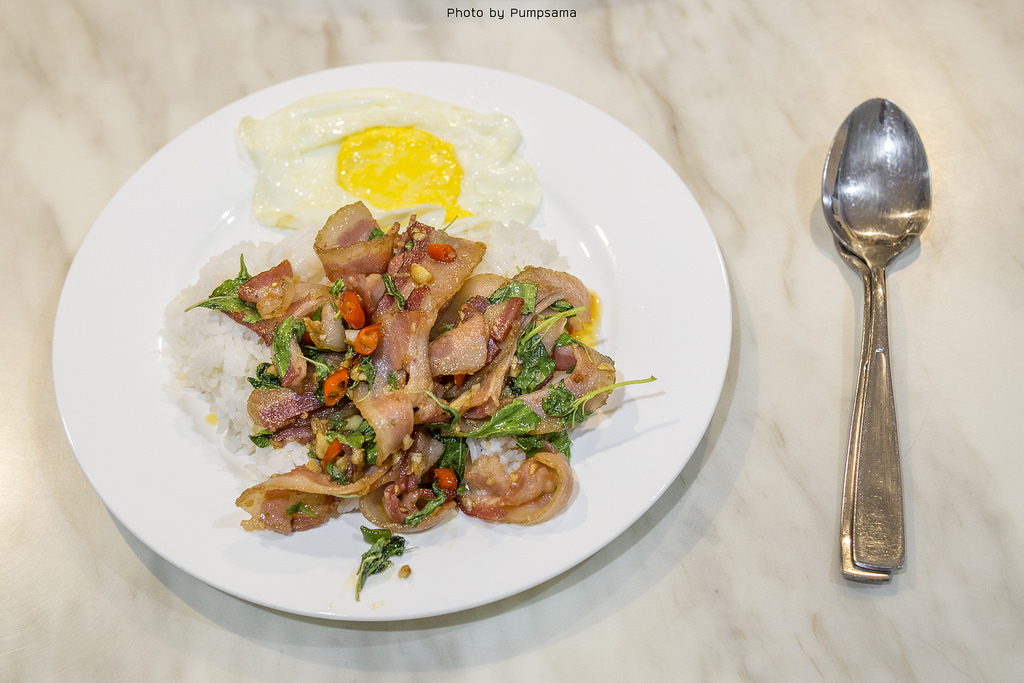fried egg: (240, 107, 540, 223)
